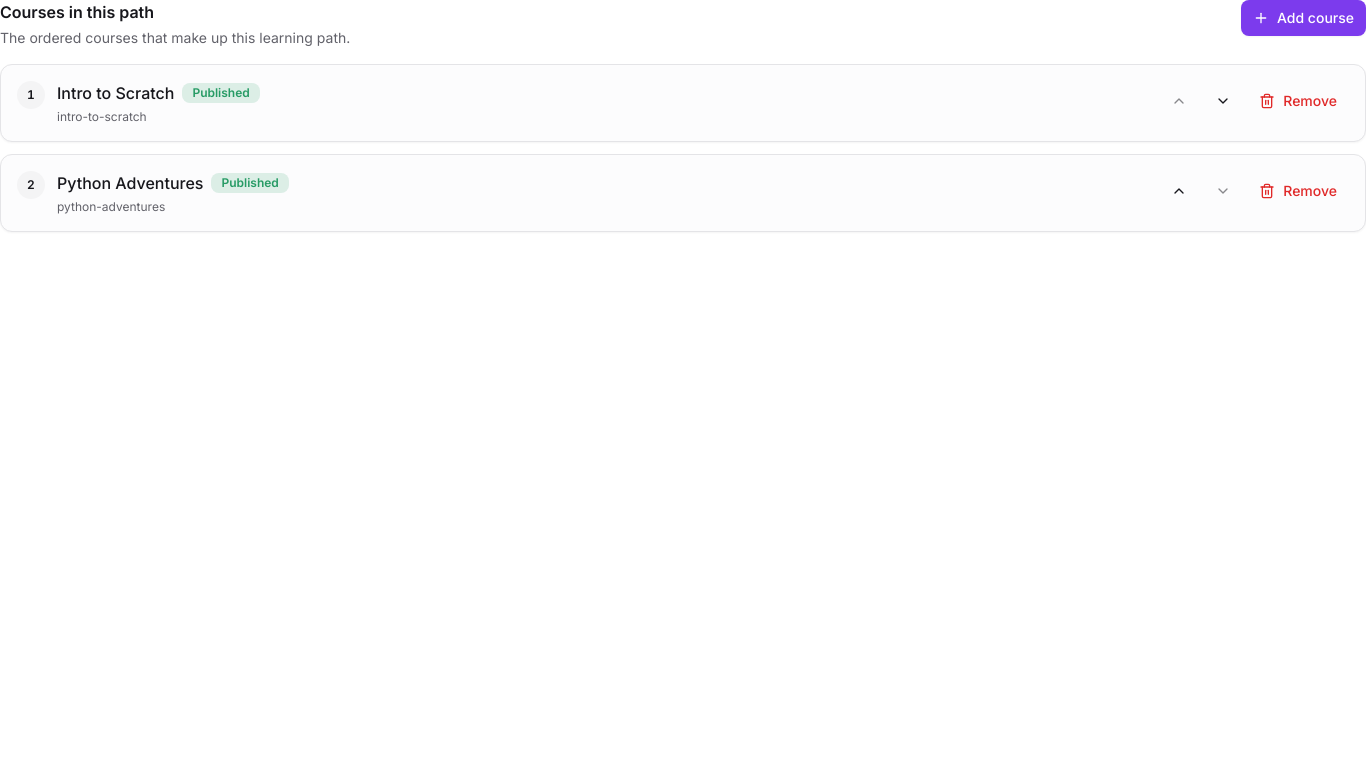
LearningPathItemsManager › adds a course with the courseId, note, and rowVersion
The width and height of the screenshot is (1366, 768).
Click the button "Add course".
click(1304, 18)  # box [1241,0,1365,36]
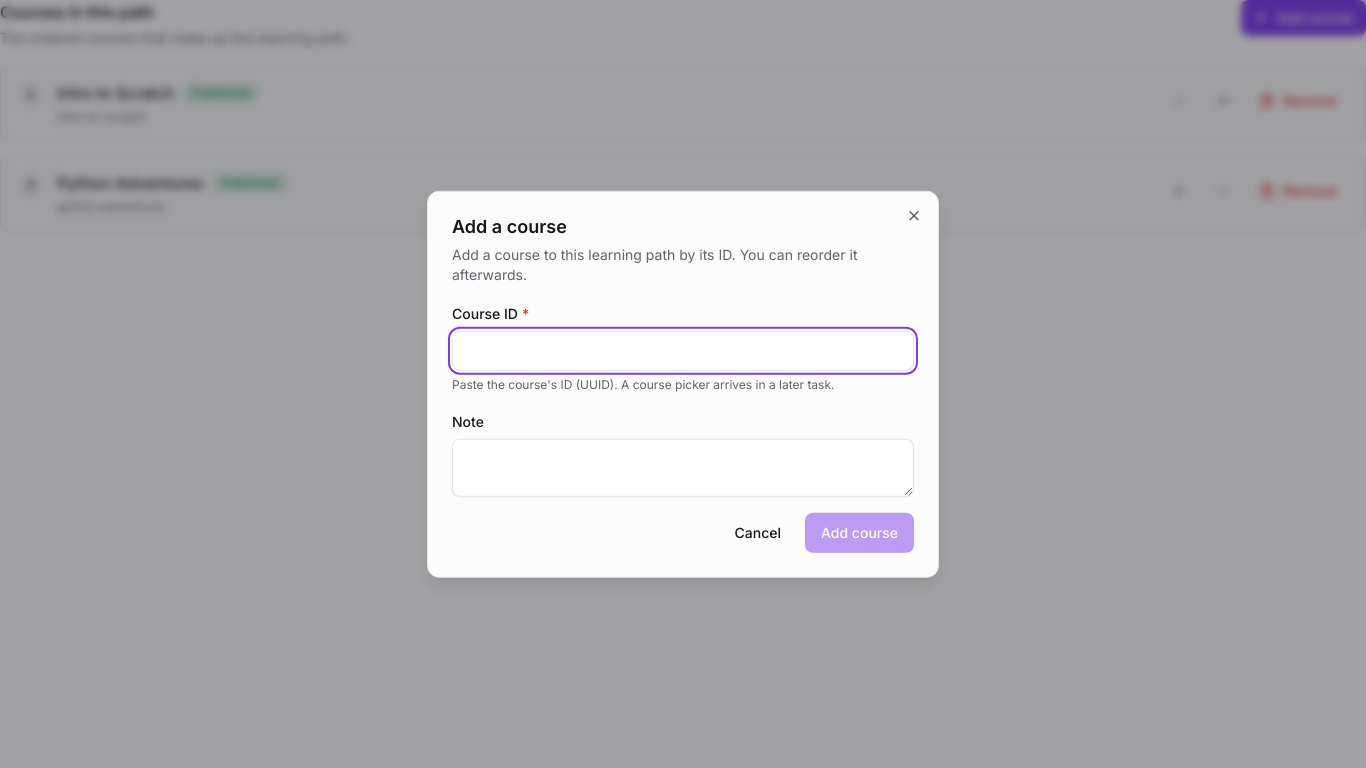
Type "00000000-0000-0000-0000-000000000009" into the field labelled "Course ID*".
click(683, 350); type("00000000-0000-0000-0000-000000000009")  # box [452,330,914,370]
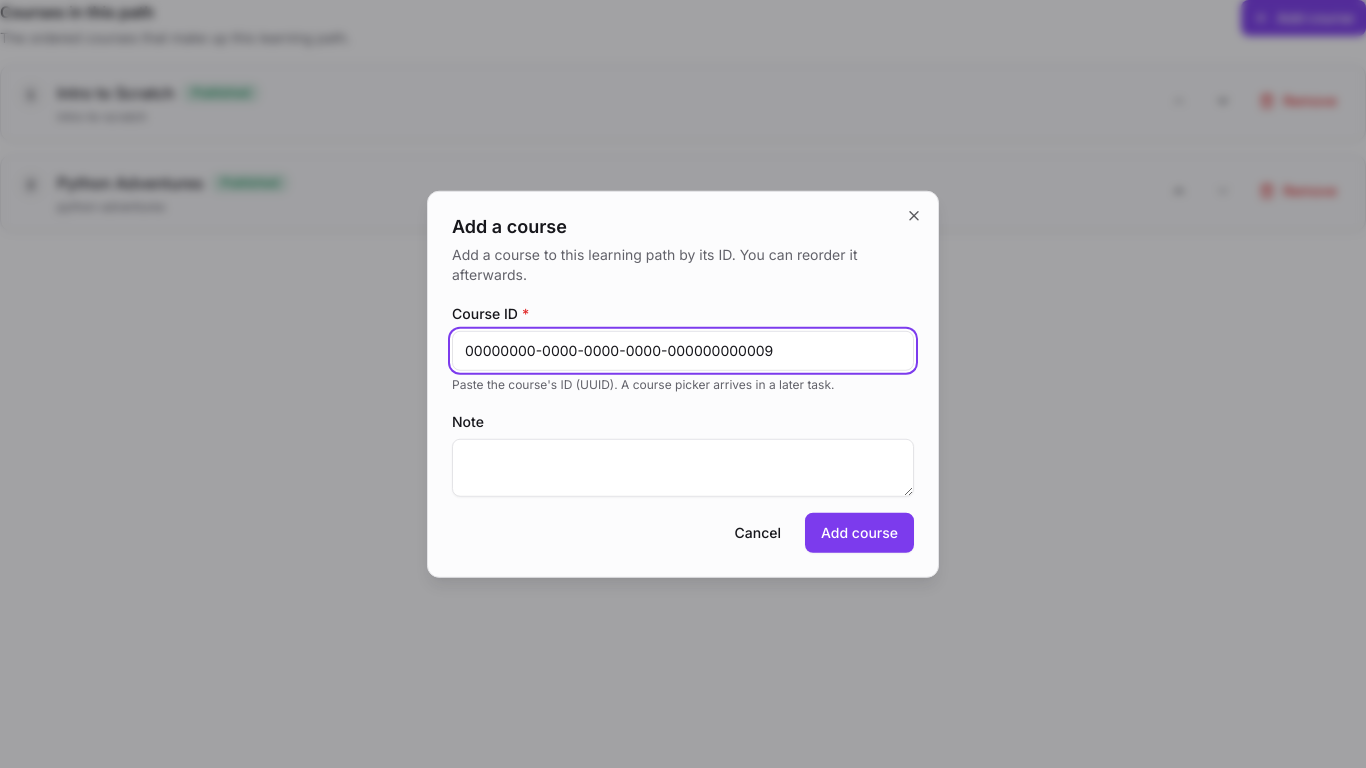
Type "Start here" into the text box labelled "Note".
click(683, 467); type("Start here")  # box [452,438,914,496]
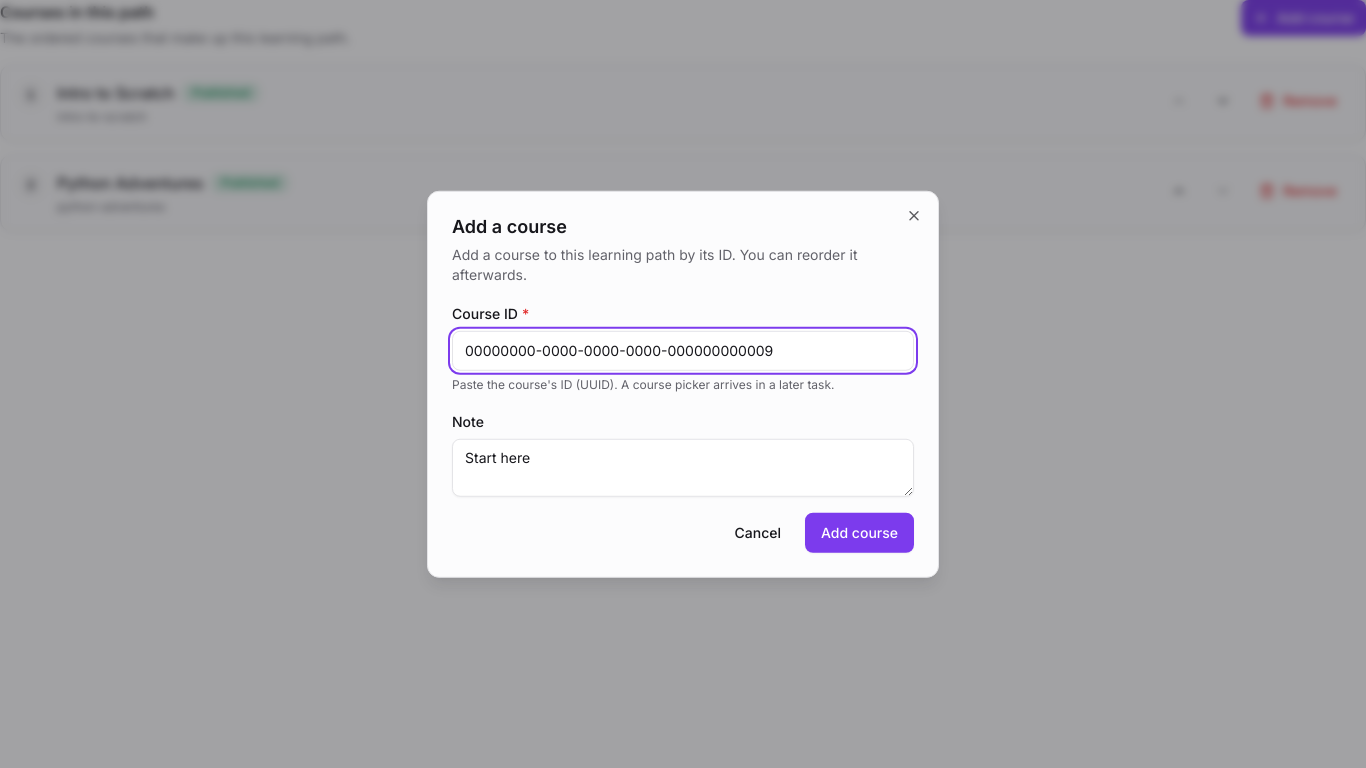
Click the button "Add course".
click(860, 532)  # box [805,512,914,552]
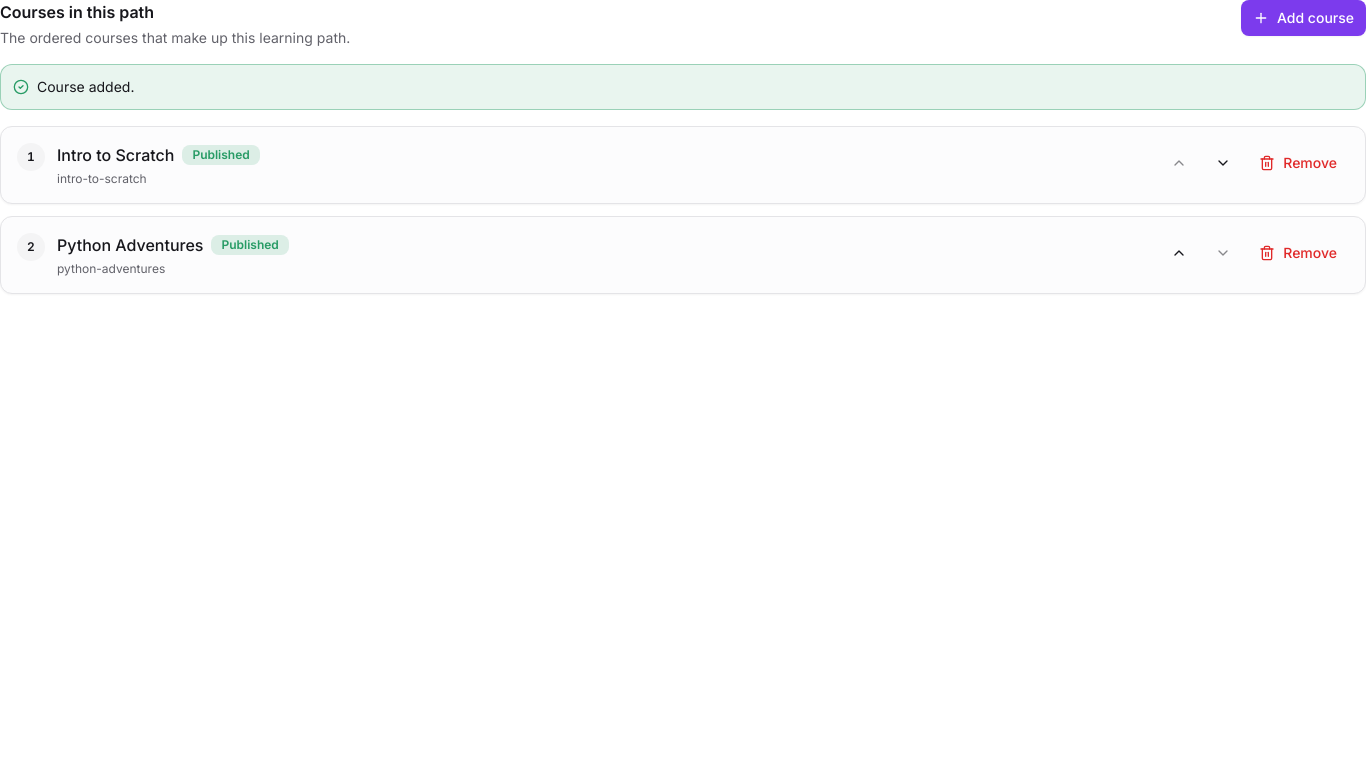
Expected: the text "Course added." is shown, [0,64,1365,110]
